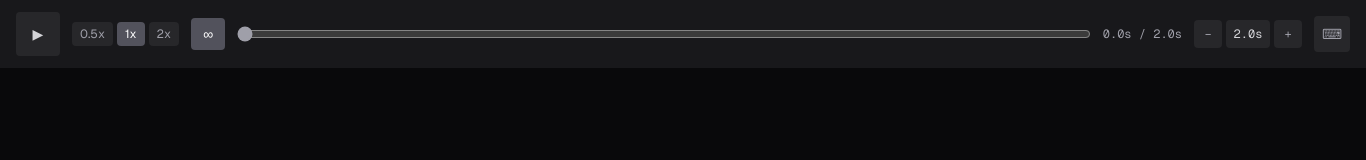
Scenario: Duration control › switches to input on click
Click the button named "durationEdit" at (1248, 34), box [1226,20,1270,48]
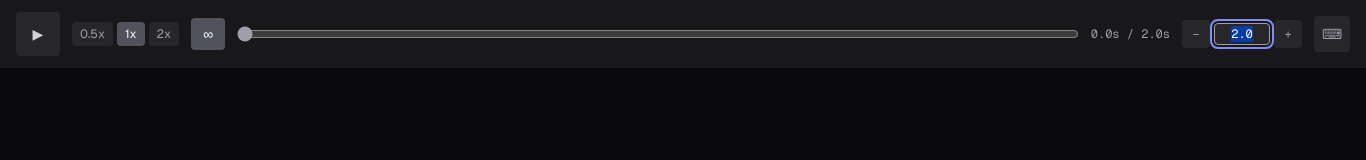
Expected: the field named "durationInput" holds "2.0", [1214,23,1270,45]
